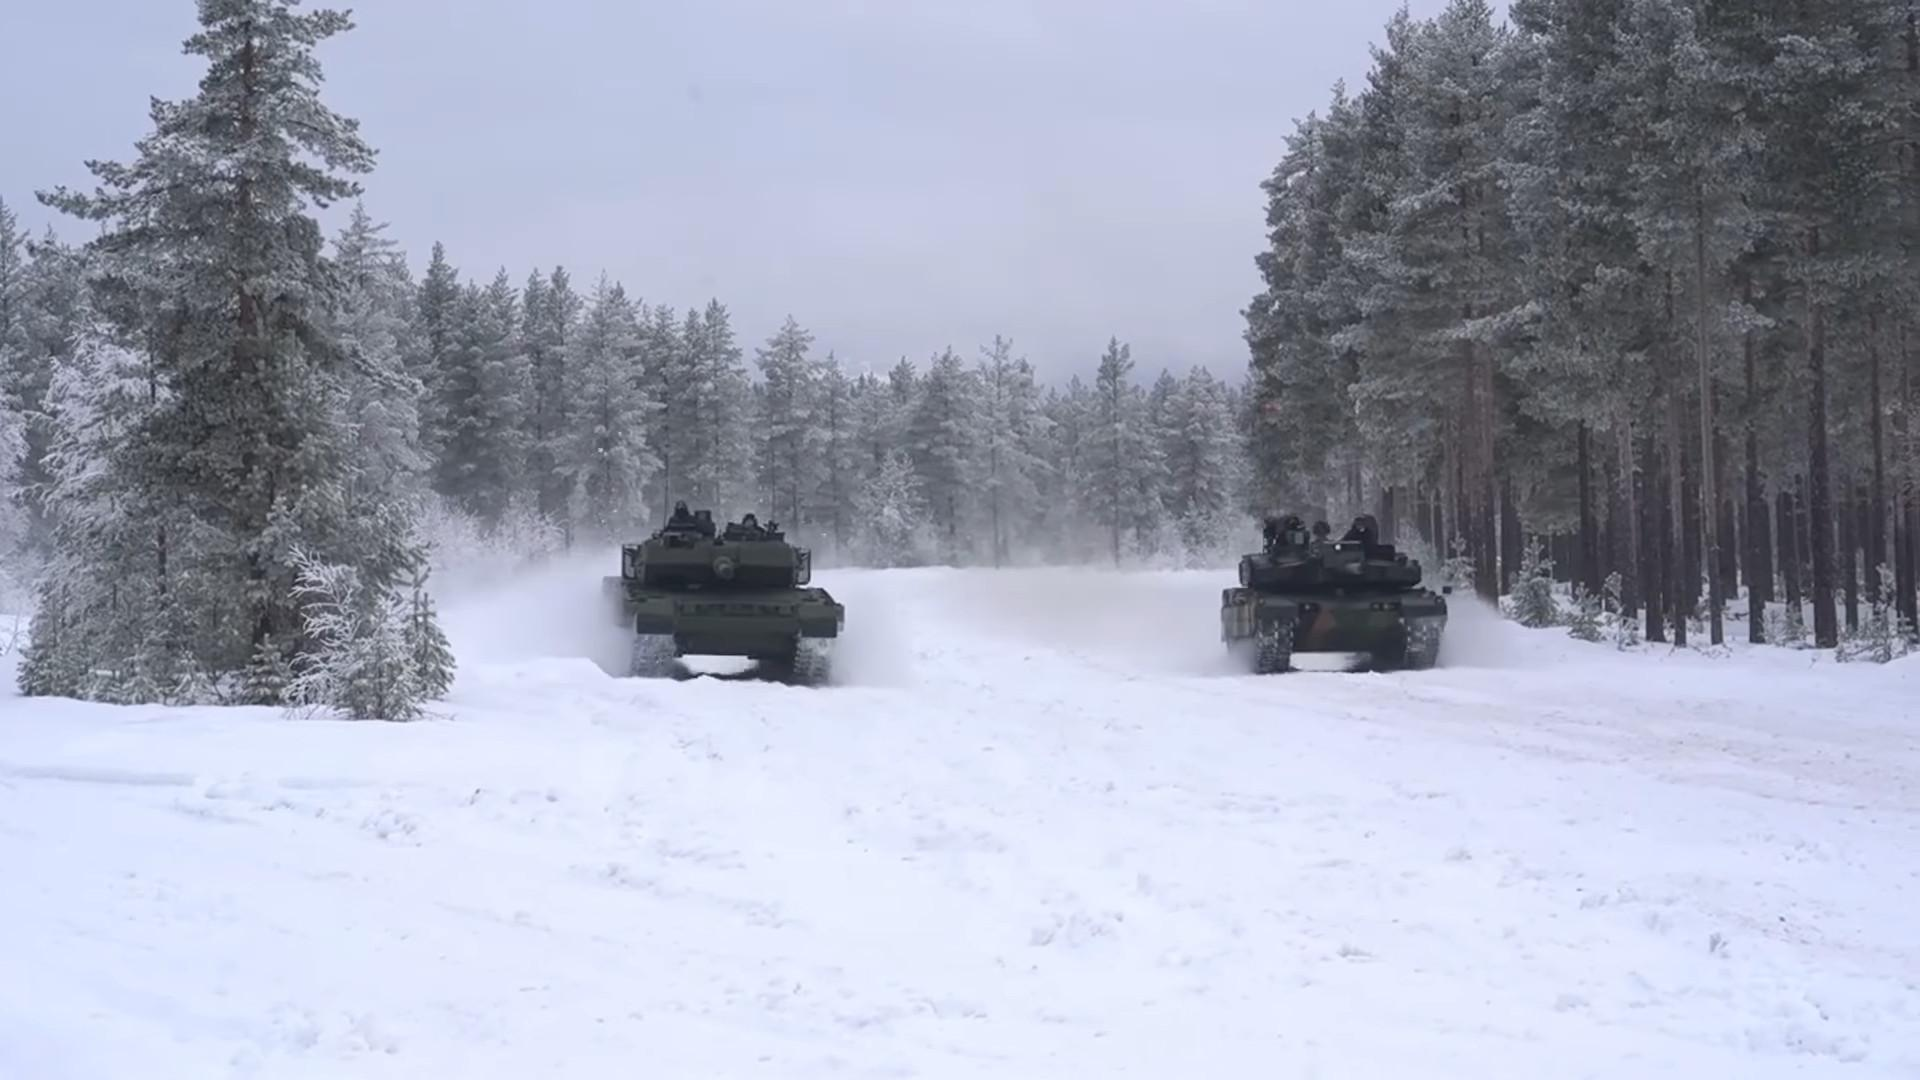tank: (593, 512, 847, 678), (1218, 516, 1449, 674)
